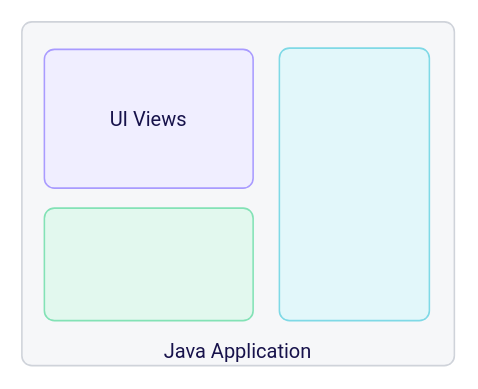
The diagram is 478 pixels wide and 389 high, and some of its shapes have lost their labels. Each missing label, with the centre of its shape:
"Business Logic and Access Control" goes at (354,184).
"JPA Entities DTOs" goes at (148,264).
